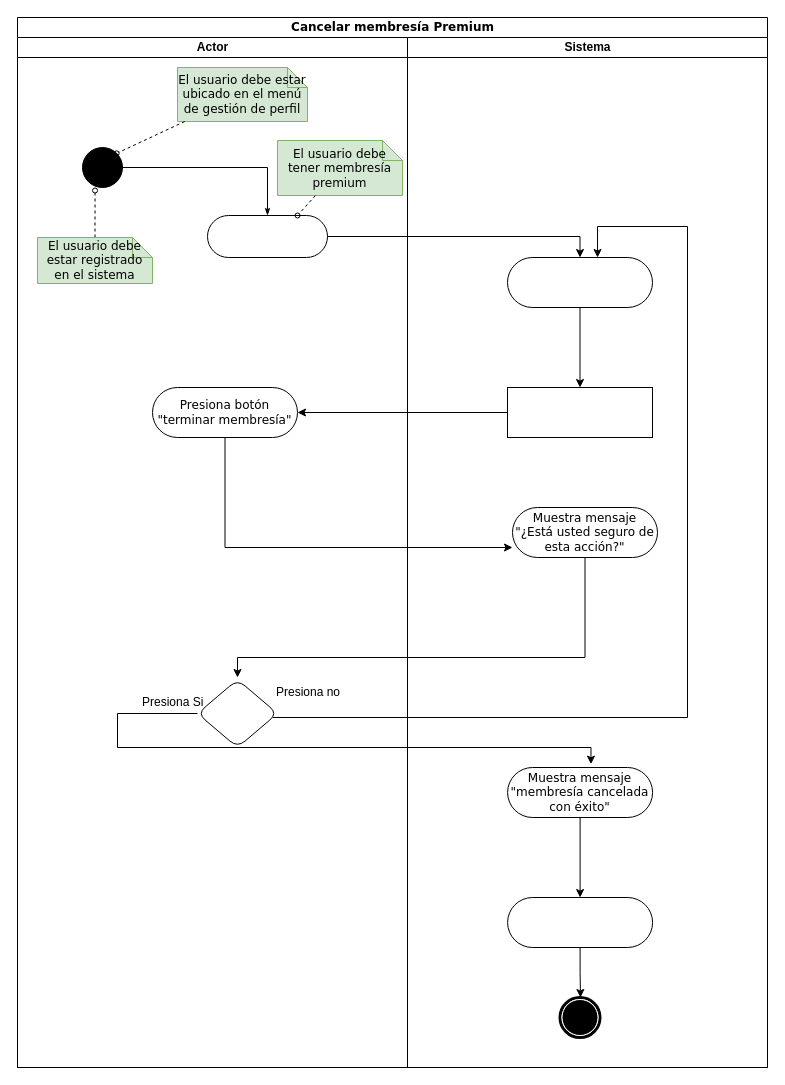
This 785x1085 diagram has some shape labels left out. Here are the shapes that lost their labels. From the top down, the centre of each, then its label:
point (267, 236): Presiona botón "Premium"
point (579, 282): Muestra interfaz "Estado de membresía premium"
point (579, 412): Información de membresía premium
point (580, 922): Actualiza base de datos
